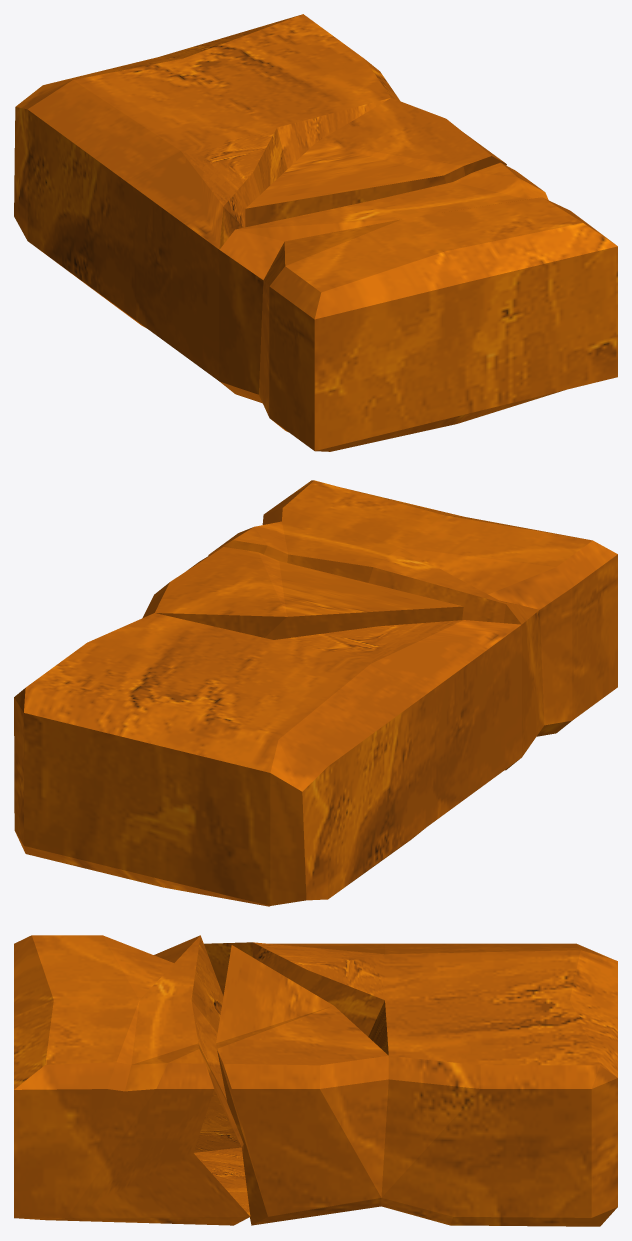
The model's file is castObj_brick_debris.fbx.
The picture shows the model from 3 angles, top to bottom: view 1: azimuth 30°, elevation 25°; view 2: azimuth 150°, elevation 25°; view 3: azimuth 270°, elevation 25°; orthographic projection. The views are drawn at different scales.
Parts seen in each view (by area): view 1: castObj_brick_debris01, castObj_brick_debris02, castObj_brick_debris03; view 2: castObj_brick_debris02, castObj_brick_debris01, castObj_brick_debris03; view 3: castObj_brick_debris02, castObj_brick_debris01, castObj_brick_debris03.
Boxes of the visible parts, x1,y1,x2,y2 form: castObj_brick_debris01: (219, 162, 617, 451); castObj_brick_debris02: (14, 14, 400, 380); castObj_brick_debris03: (245, 98, 506, 227); castObj_brick_debris02: (14, 613, 521, 906); castObj_brick_debris01: (208, 480, 617, 770); castObj_brick_debris03: (142, 547, 463, 639); castObj_brick_debris02: (204, 942, 617, 1226); castObj_brick_debris01: (14, 935, 250, 1225); castObj_brick_debris03: (216, 945, 388, 1225).
Size of the model in its own units: 0.2757 by 0.1467 by 0.4848.
1 material, 1 textured.
